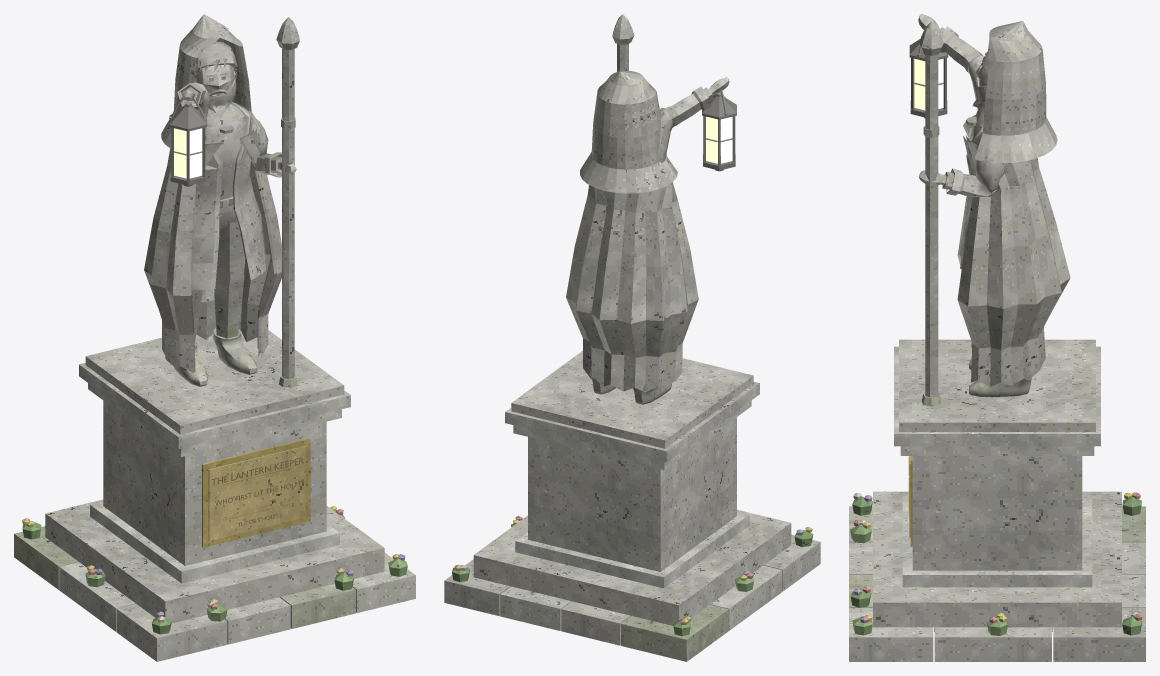
File: holm_arrival_statue_oldschool_v1.glb
3 renders of one model, left to right at view 1: azimuth 30°, elevation 25°; view 2: azimuth 150°, elevation 25°; view 3: azimuth 270°, elevation 25°, orthographic. The views are drawn at different scales.
Visible parts, largest first — view 1: LanternKeeperPlinth, LanternKeeperFigure, LanternKeeperCloak, LanternKeeperStaff, LanternKeeperLantern, LanternKeeperLettering; view 2: LanternKeeperPlinth, LanternKeeperCloak, LanternKeeperFigure, LanternKeeperLantern, LanternKeeperStaff; view 3: LanternKeeperPlinth, LanternKeeperCloak, LanternKeeperStaff, LanternKeeperFigure, LanternKeeperLantern.
Boxes of the visible parts, x1,y1,x2,y2 form: LanternKeeperPlinth: (14,330,415,661); LanternKeeperFigure: (174,41,296,386); LanternKeeperCloak: (144,14,281,373); LanternKeeperStaff: (276,17,299,387); LanternKeeperLantern: (169,97,206,186); LanternKeeperLettering: (211,457,303,526); LanternKeeperPlinth: (444,351,820,661); LanternKeeperCloak: (566,71,698,392); LanternKeeperFigure: (589,77,729,404); LanternKeeperLantern: (702,89,736,171); LanternKeeperStaff: (612,14,634,71); LanternKeeperPlinth: (849,339,1145,661); LanternKeeperCloak: (957,21,1070,386); LanternKeeperStaff: (919,21,943,406); LanternKeeperFigure: (918,14,1031,396); LanternKeeperLantern: (909,39,948,118).
Size of the model in its own units: 1.83 by 3.88 by 1.75.
Materials: 4 (1 with a texture image).
